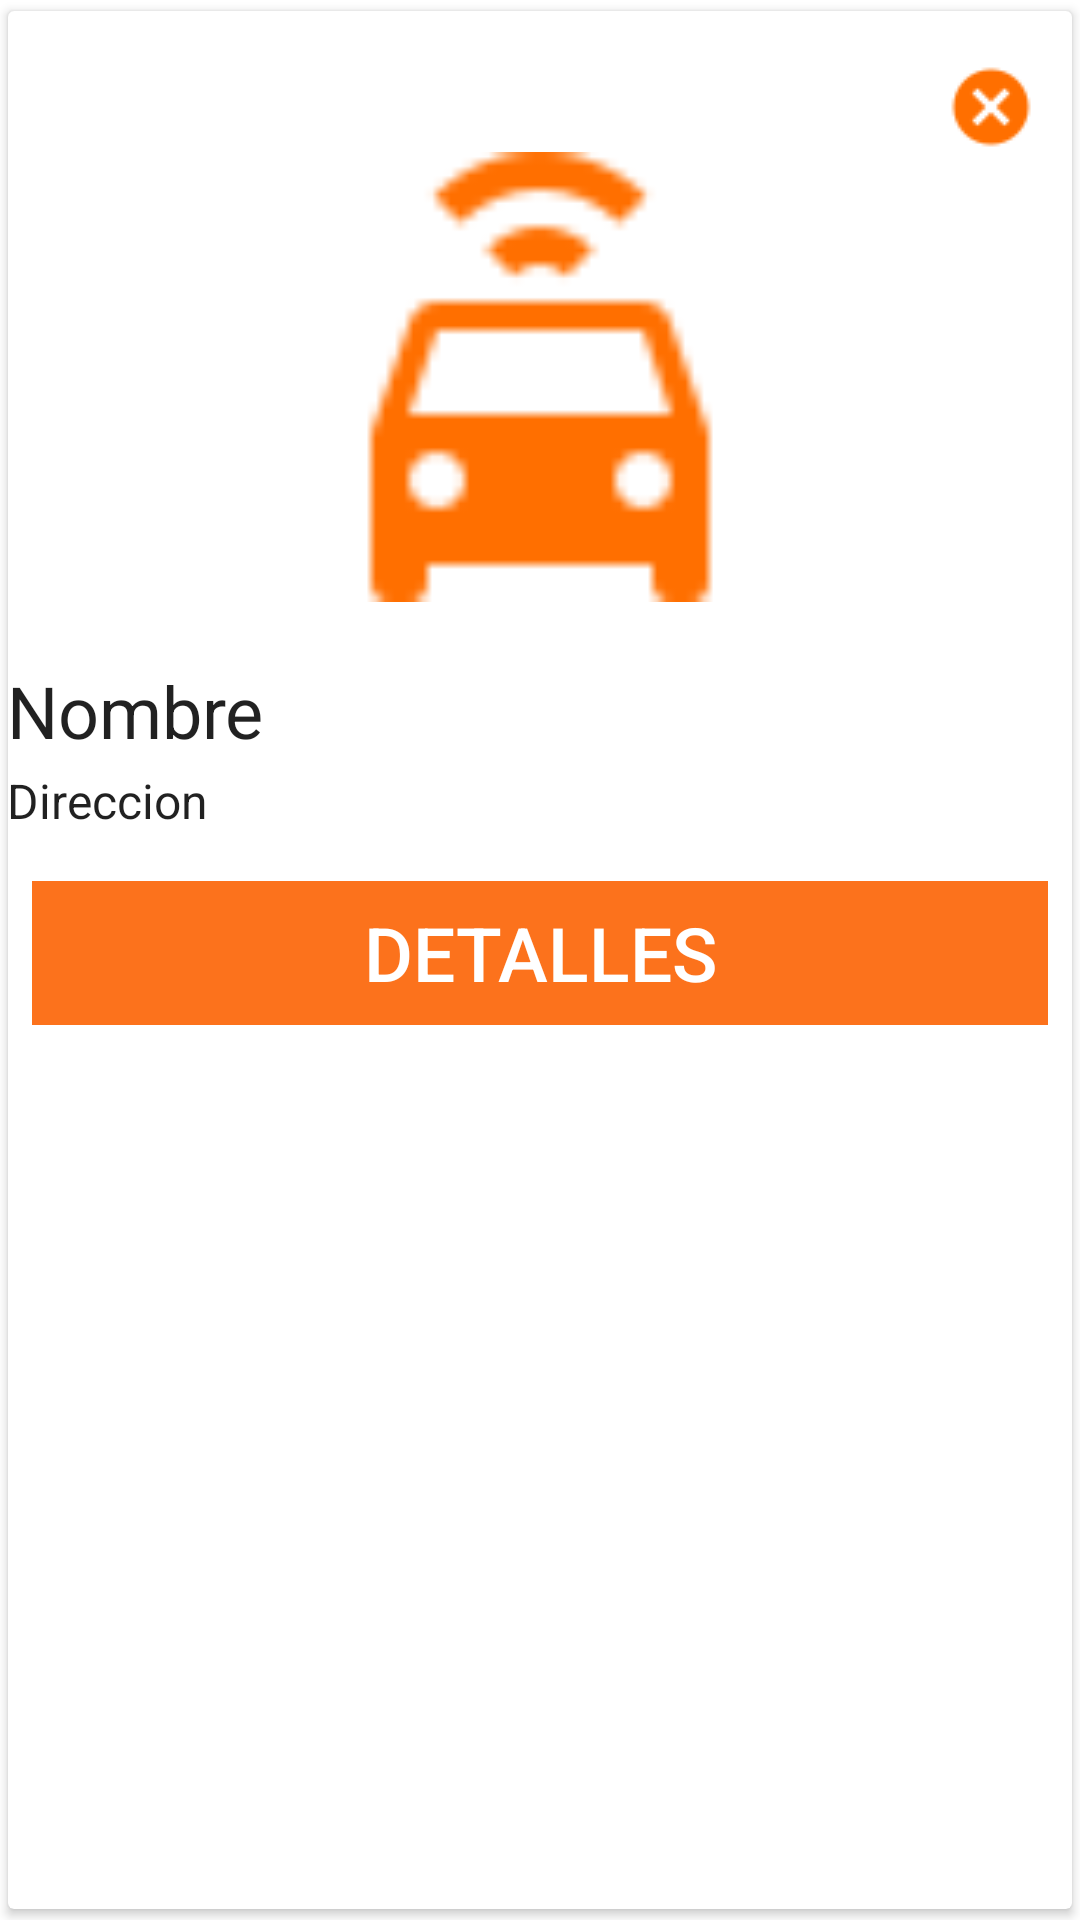

Where icons sit on this 1080 x 1920 app screen, as (x1, y1, x2, y2):
borrar fav: (951, 67, 1031, 147)
